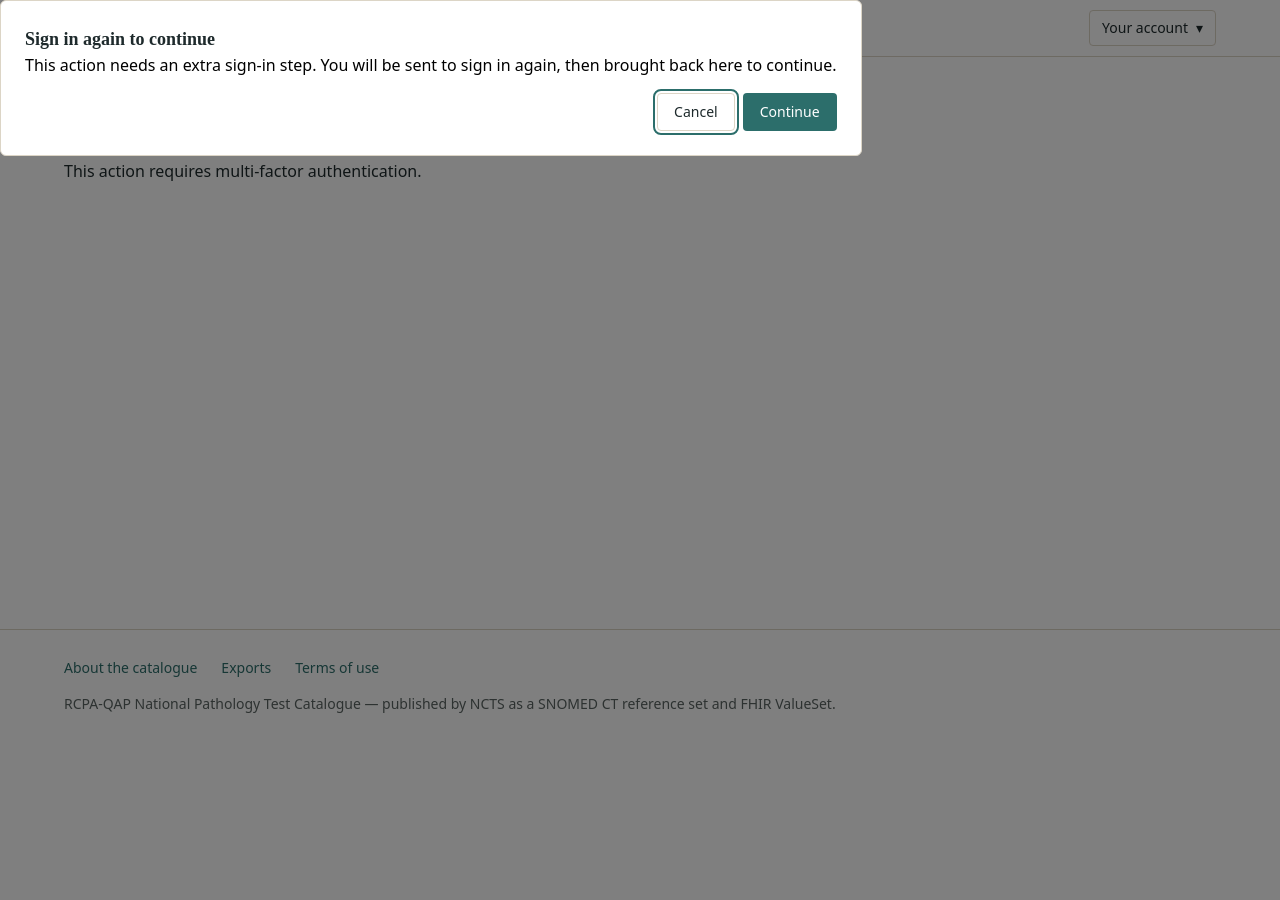
Test: the entry it loads › abandoning the interactive fallback leaves a usable screen and never signs out
This screenshot has width=1280, height=900.
Step 1. Click the button "Cancel" → (696, 112), box [657,93,735,131]
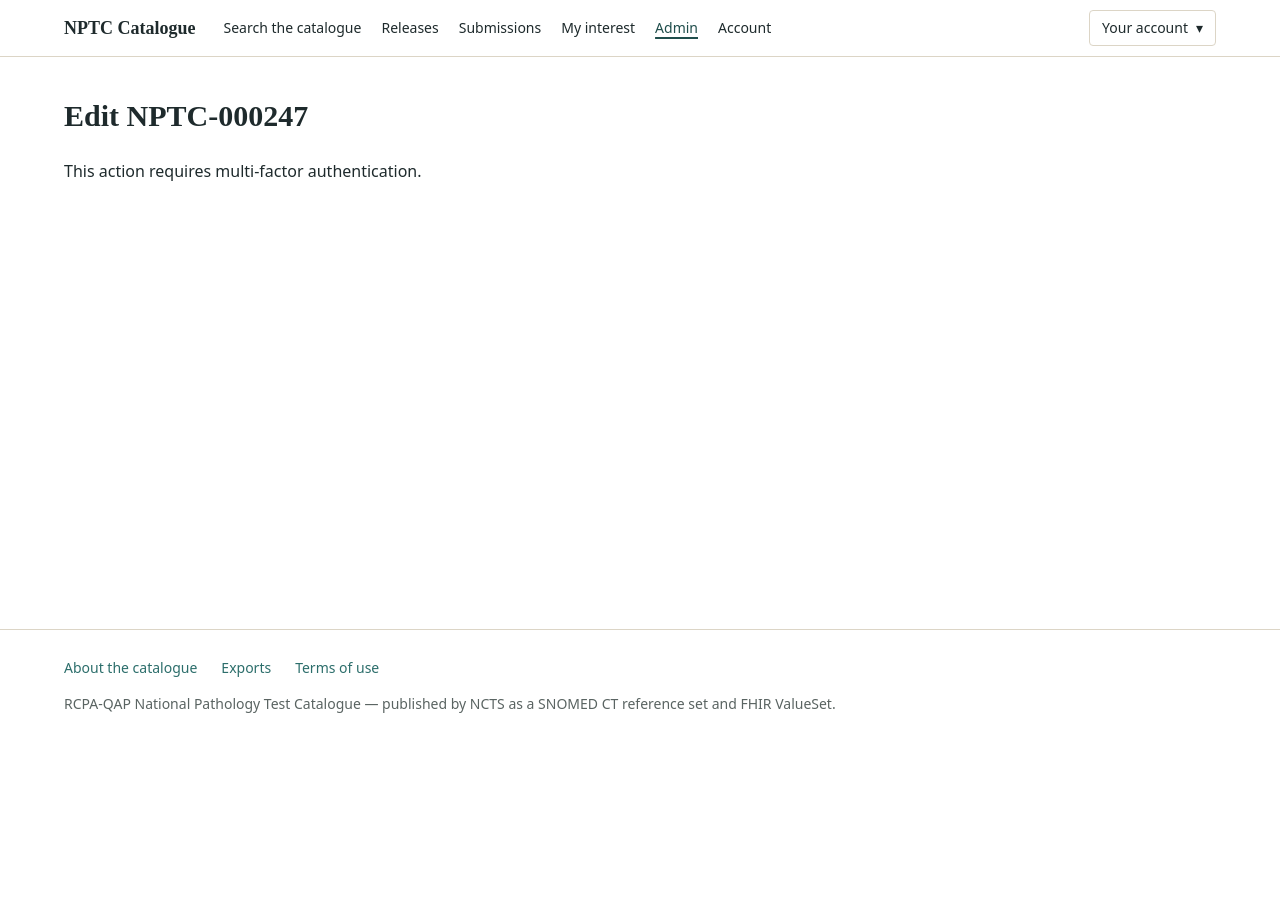
Expected: the text "This action requires multi-factor authentication." is shown, [64,160,422,182]
Now the dialog is gone
